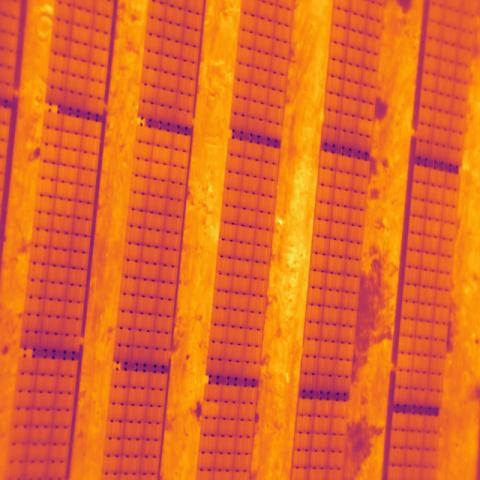fault: (202, 400, 220, 419)
